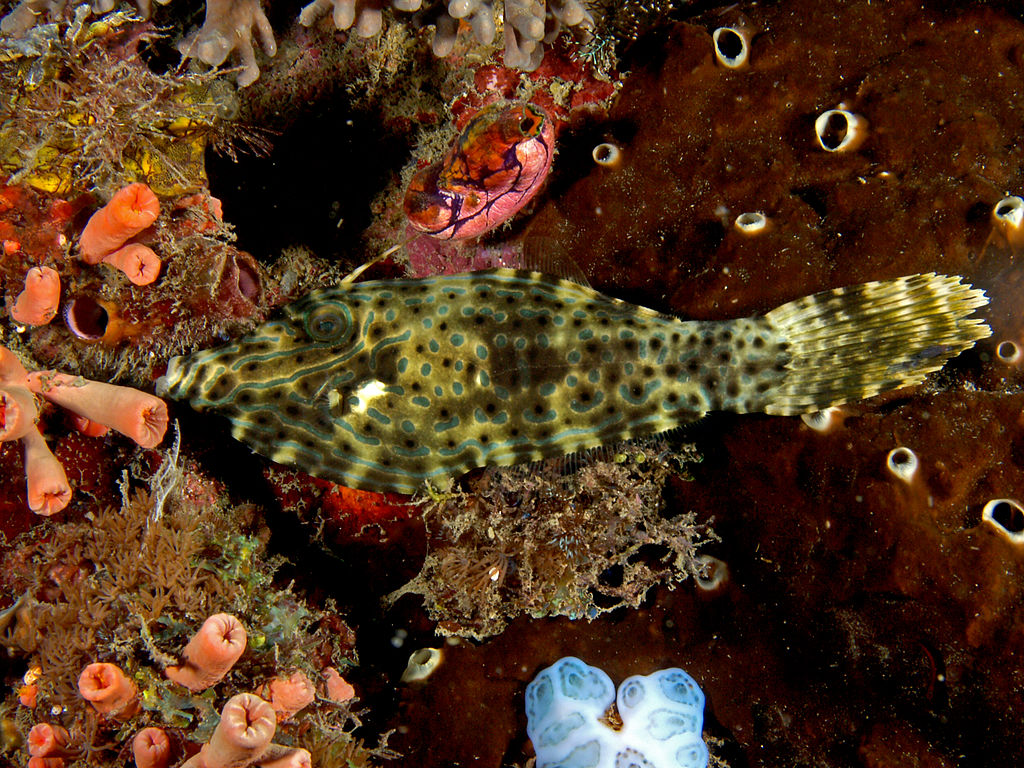Aluterus_scriptus: (150, 260, 996, 495)
